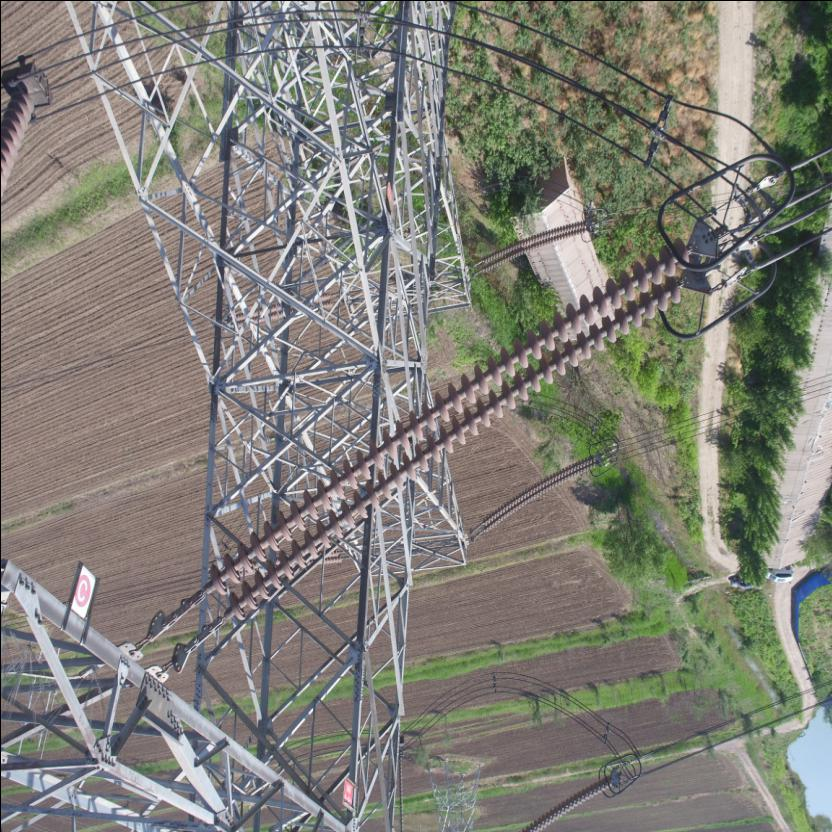insulator: (183, 230, 708, 634)
